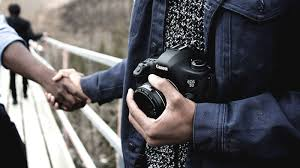camera: (132, 55, 211, 122)
